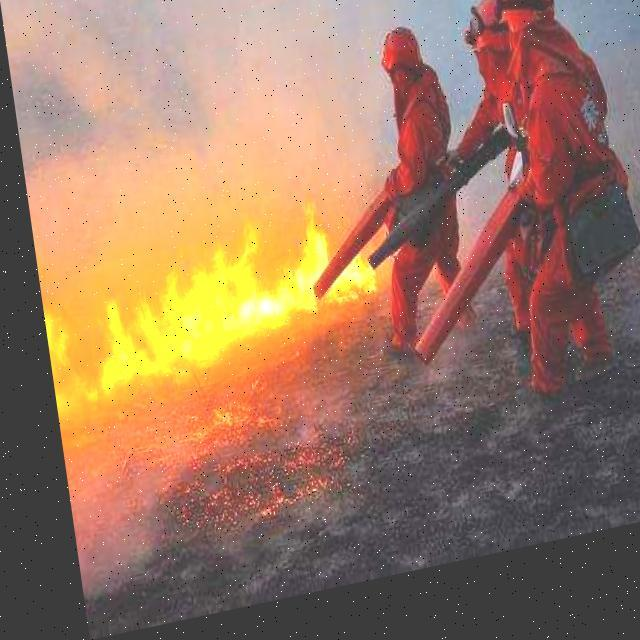Fire: (35, 212, 371, 396)
